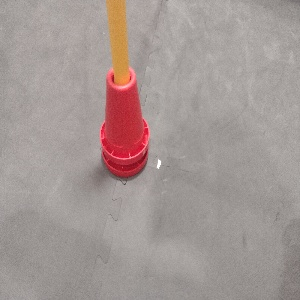Red_2: (98, 64, 150, 178)
